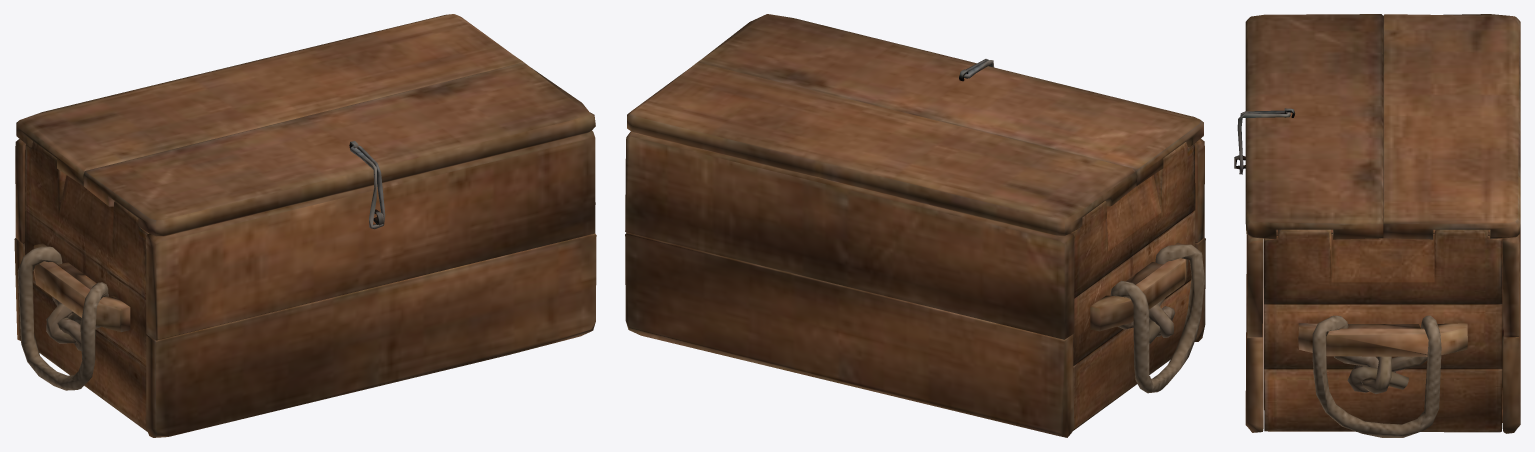
Rendered from wooden_crate_01.glb.
3 renders of one model, left to right at view 1: azimuth 30°, elevation 25°; view 2: azimuth 150°, elevation 25°; view 3: azimuth 270°, elevation 25°, orthographic. The views are drawn at different scales.
Visible parts, largest first — view 1: wooden_crate_01_lid; view 2: wooden_crate_01_lid; view 3: wooden_crate_01_lid.
Part boxes in pixels (<box>): wooden_crate_01_lid: <box>14,14,596,437</box>; wooden_crate_01_lid: <box>625,14,1205,437</box>; wooden_crate_01_lid: <box>1234,14,1520,437</box>.
Size of the model in its own units: 0.8245 by 0.3495 by 0.407.
Materials: 1 (1 with a texture image).
